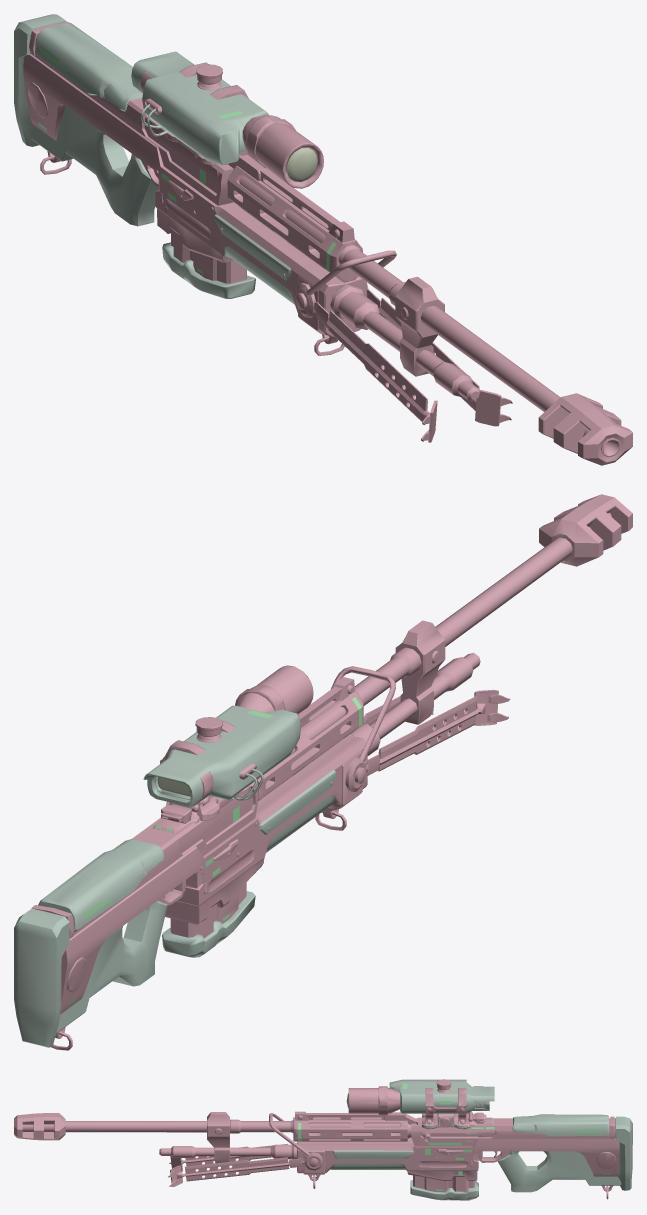
Rendered from SRS99-S2 AM.fbx.
3 renders of one model, top to bottom at view 1: azimuth 30°, elevation 25°; view 2: azimuth 150°, elevation 25°; view 3: azimuth 270°, elevation 25°, orthographic. The views are drawn at different scales.
Visible parts, largest first — view 1: v_srs99c2b_srs_body.003, v_srs99c2b_srs_body.005, v_srs99c2b_srs_body.007, v_srs99c2b_srs_body.004; view 2: v_srs99c2b_srs_body.003, v_srs99c2b_srs_body.005; view 3: v_srs99c2b_srs_body.003, v_srs99c2b_srs_body.005, v_srs99c2b_srs_body.004.
Boxes of the visible parts, x1,y1,x2,y2 form: v_srs99c2b_srs_body.003: (23, 22, 632, 465); v_srs99c2b_srs_body.005: (14, 14, 294, 304); v_srs99c2b_srs_body.007: (287, 148, 317, 181); v_srs99c2b_srs_body.004: (38, 46, 338, 274); v_srs99c2b_srs_body.003: (31, 494, 632, 1050); v_srs99c2b_srs_body.005: (14, 705, 335, 1047); v_srs99c2b_srs_body.003: (14, 1079, 619, 1199); v_srs99c2b_srs_body.005: (330, 1079, 632, 1200); v_srs99c2b_srs_body.004: (298, 1083, 610, 1190).
Bounding box in the file's own units: 450 × 893 × 4358.
